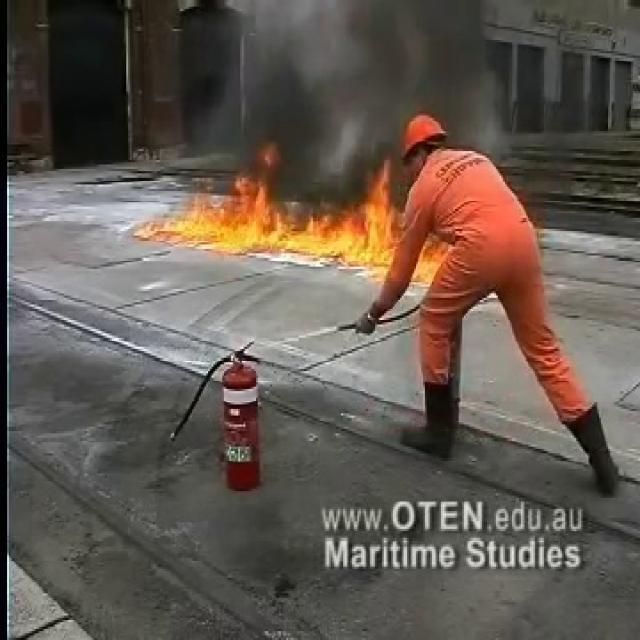Fire: (136, 159, 398, 263)
Smoke: (187, 0, 554, 149)
